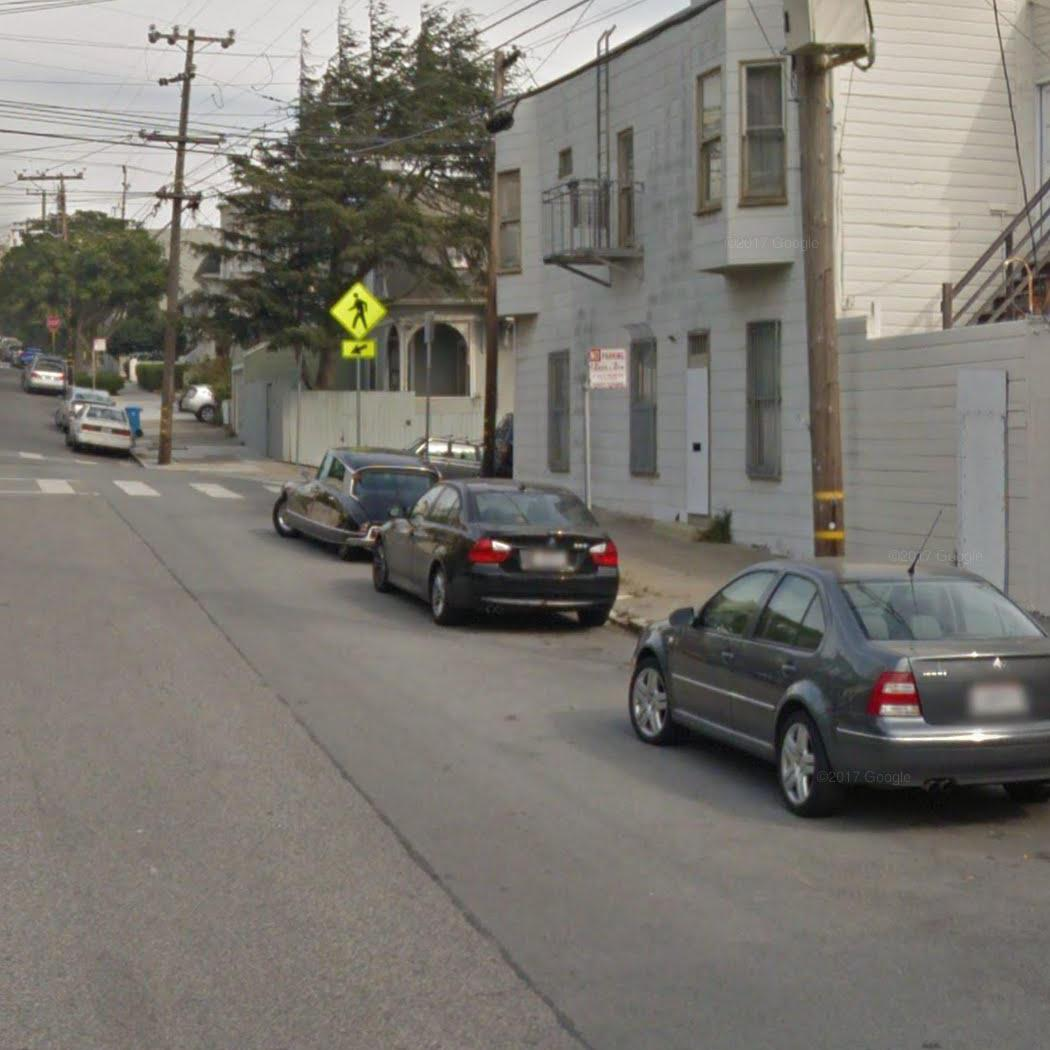No Parking: (585, 345, 632, 392)
